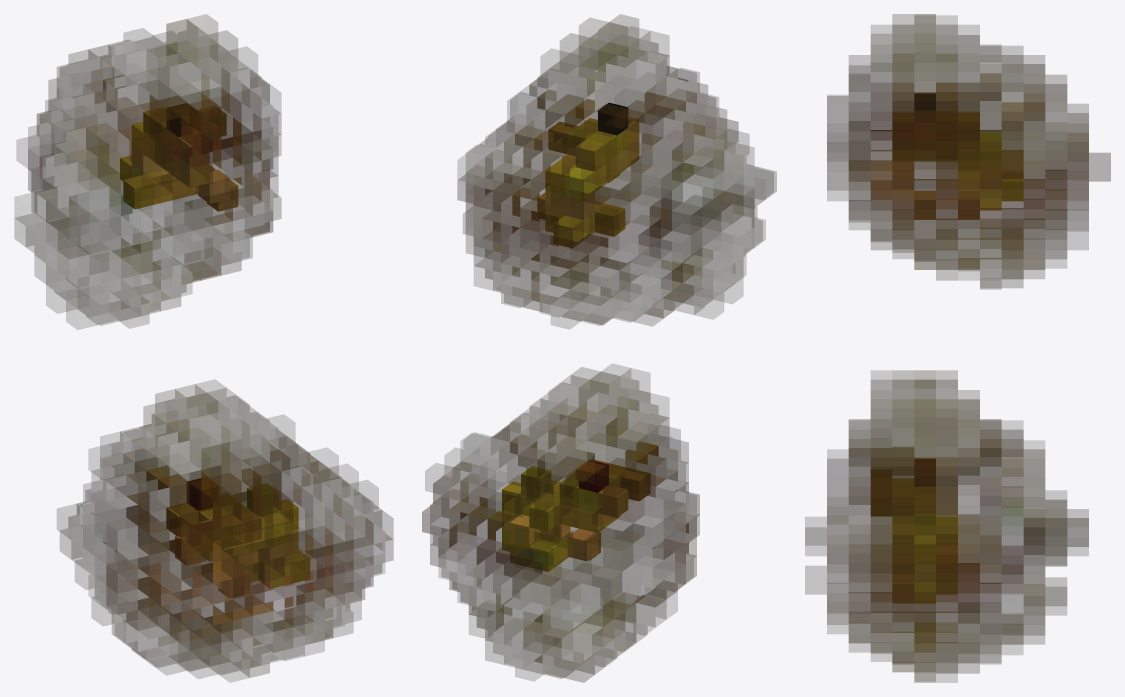
The model's file is iter_20.obj.
3 renders of one model, left to right at view 1: azimuth 30°, elevation 25°; view 2: azimuth 150°, elevation 25°; view 3: azimuth 270°, elevation 25°, orthographic. The views are drawn at different scales.
Visible parts, largest first — view 1: iter_20; view 2: iter_20; view 3: iter_20.
Part boxes in pixels (x1,y1,x2,y2): iter_20: (14,14,393,682); iter_20: (422,14,776,682); iter_20: (805,14,1110,682).
Bounding box in the file's own units: 1.7 × 3.1 × 1.4.
